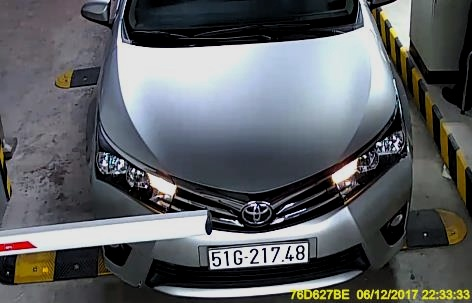plate: (208, 239, 306, 264)
